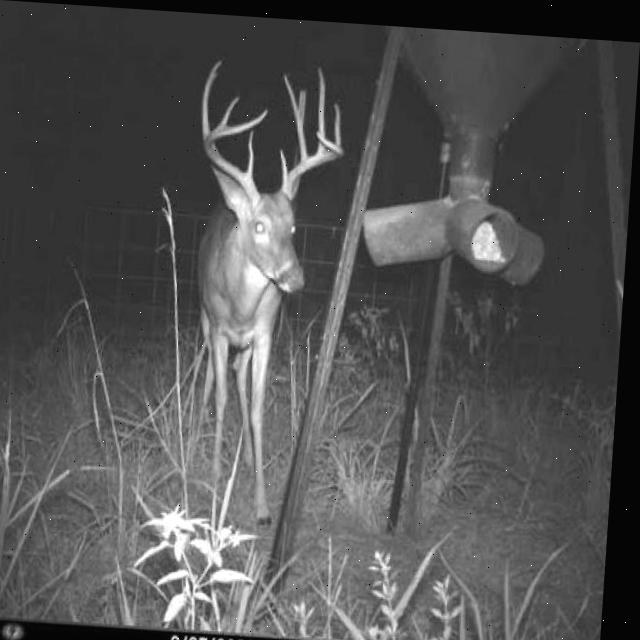Deer: (166, 42, 360, 569)
